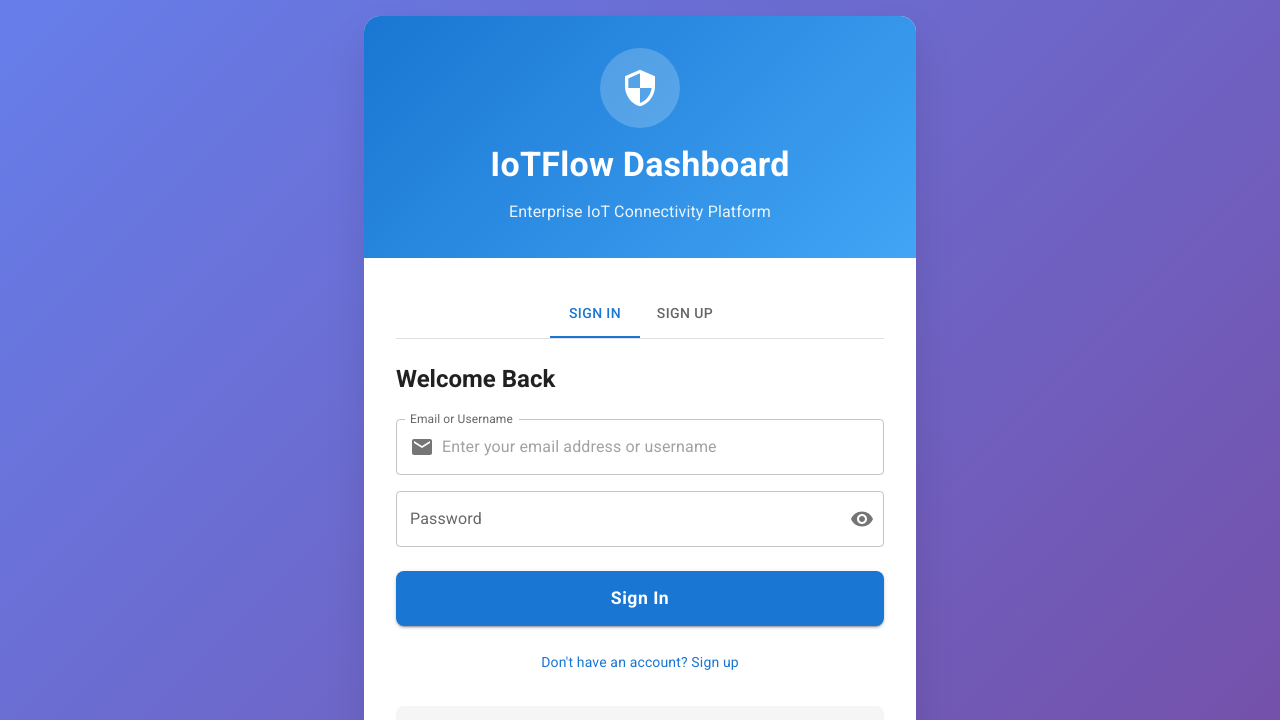
Test: Login Component Error Handling - TDD › Invalid Credentials Error Handling › should display error message for inactive account
Type "inactive@example.com" into the field labelled "Email or Username".
click(663, 447); type("inactive@example.com")  # box [442,419,884,475]
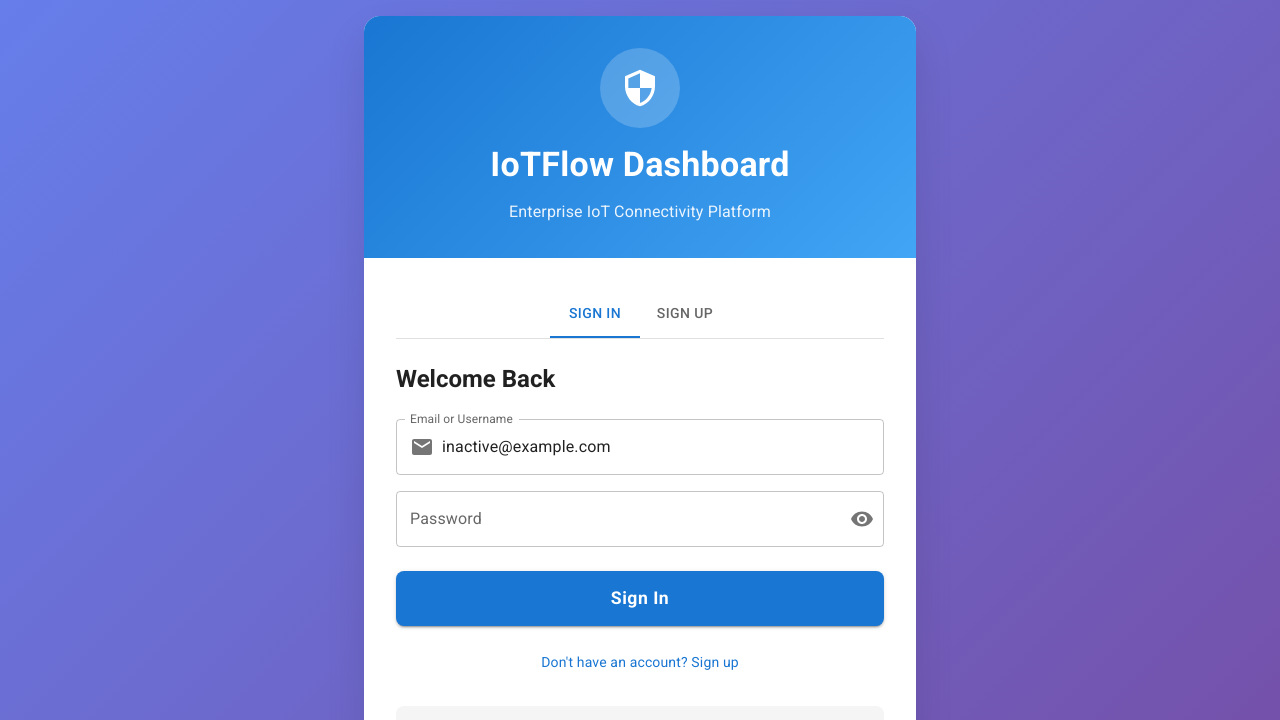
Type "password123" into the password field with placeholder "Enter your password".
click(615, 519); type("password123")  # box [396,491,834,547]
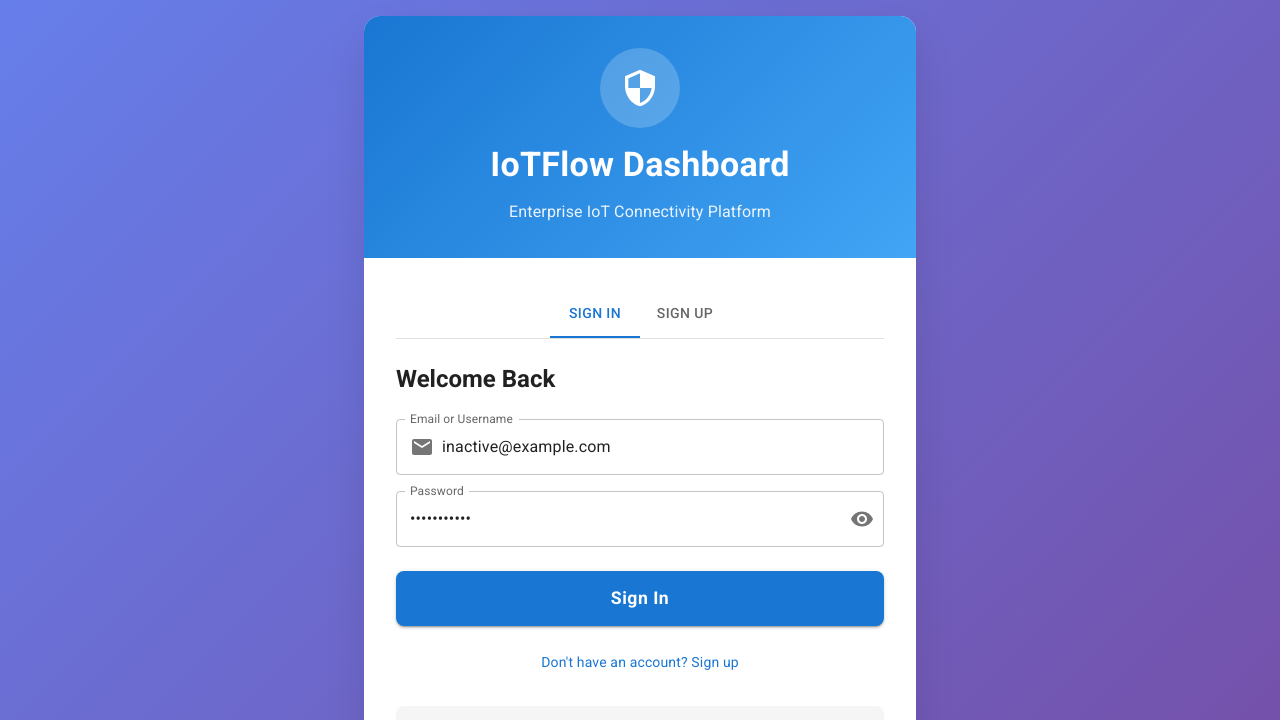
Submit the form
Click the button "Sign In".
click(640, 598)  # box [396,571,884,626]
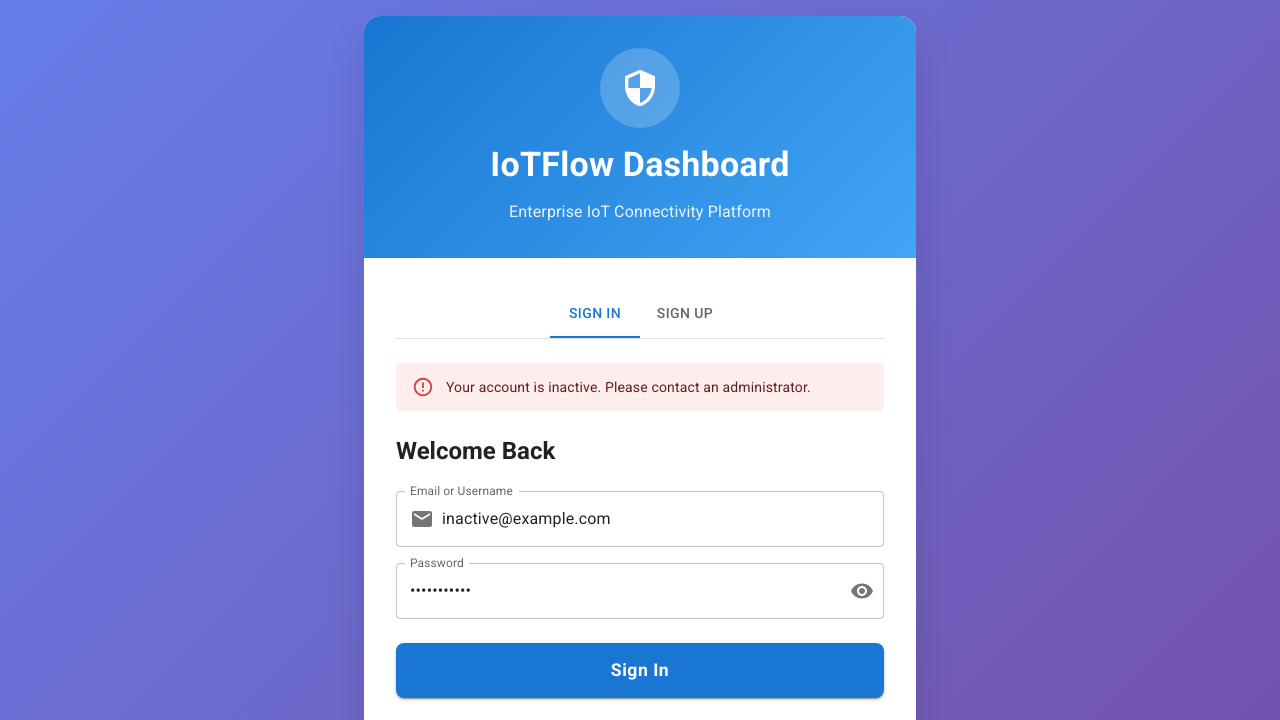
Check: the message "Your account is inactive. Please contact an administrator." is shown, box [396,363,884,411]
Check: the message shows "account is inactive", box [446,379,811,395]
